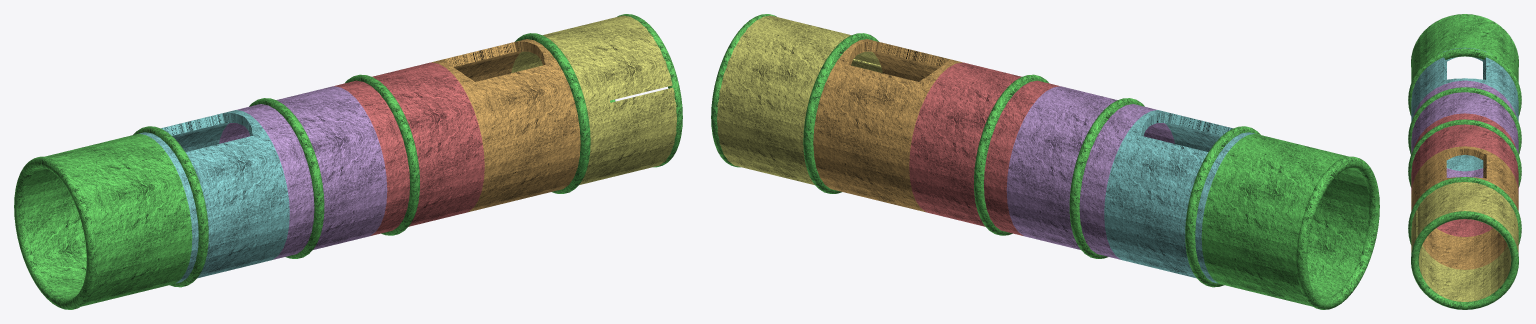
Rendered from Rainbow tunnel.fbx.
3 views of the same model, side by side, from view 1: azimuth 30°, elevation 25°; view 2: azimuth 150°, elevation 25°; view 3: azimuth 270°, elevation 25° (orthographic). The views are drawn at different scales.
Visible parts, largest first — view 1: Cylinder, Torus.002, Torus.004, Torus.005, Torus.006, Torus.003, Torus.001; view 2: Cylinder, Torus.002, Torus.004, Torus.005, Torus.006, Torus.003, Torus.001; view 3: Cylinder, Torus.001, Torus.004, Torus.003, Torus.005, Torus.006, Torus.002.
Boxes of the visible parts, x1,y1,x2,y2 form: Cylinder: (24, 15, 676, 306); Torus.002: (14, 156, 97, 309); Torus.004: (133, 126, 208, 287); Torus.005: (515, 33, 590, 193); Torus.006: (345, 74, 419, 235); Torus.003: (249, 98, 324, 258); Torus.001: (610, 14, 682, 167); Cylinder: (717, 15, 1369, 306); Torus.002: (1296, 156, 1379, 309); Torus.004: (1185, 126, 1260, 287); Torus.005: (803, 33, 878, 193); Torus.006: (974, 74, 1048, 235); Torus.003: (1069, 98, 1144, 258); Torus.001: (711, 14, 776, 167); Cylinder: (1411, 15, 1518, 301); Torus.001: (1411, 211, 1518, 309); Torus.004: (1408, 48, 1521, 115); Torus.003: (1408, 87, 1521, 154); Torus.005: (1408, 177, 1521, 244); Torus.006: (1408, 119, 1521, 187); Torus.002: (1411, 14, 1518, 66).
Size of the model in its own units: 12 by 2.88 by 2.88.
